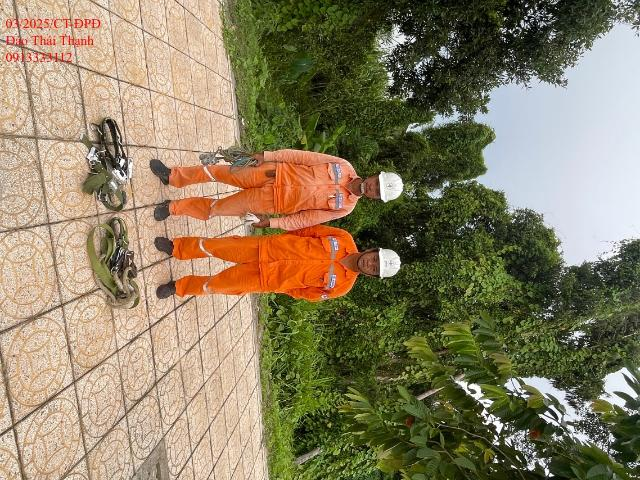harness: (65, 219, 144, 311), (75, 103, 137, 214)
helmet: (374, 241, 402, 285), (374, 171, 402, 207)
shoes: (148, 278, 191, 310), (150, 149, 178, 191), (150, 231, 183, 265), (145, 194, 179, 224)
